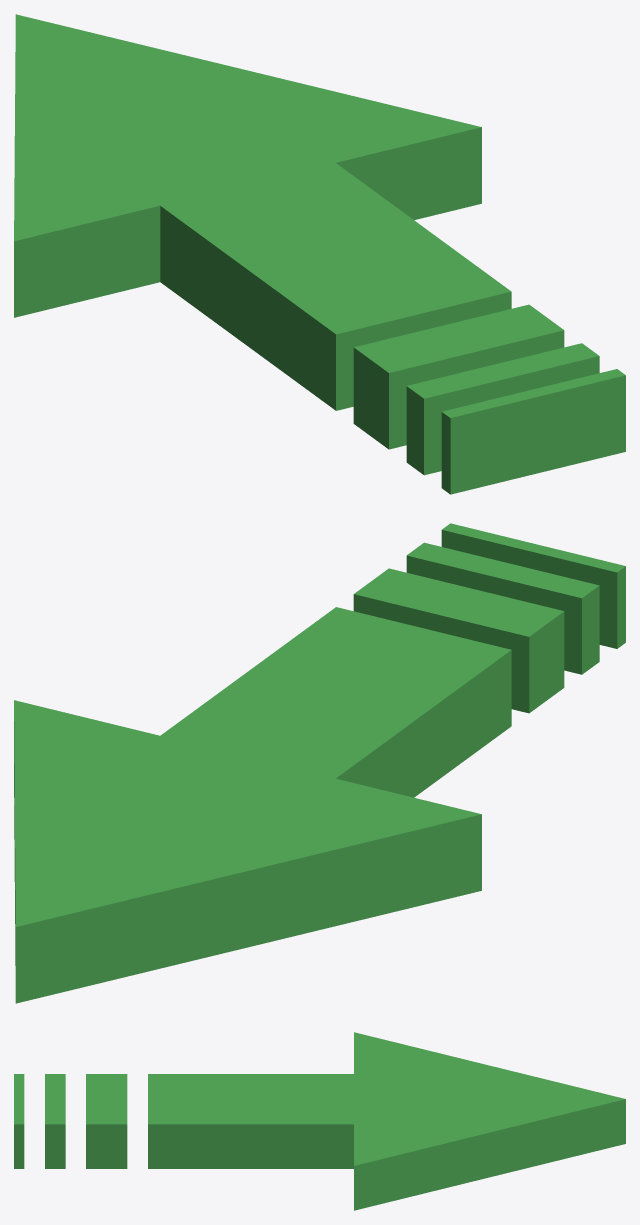
Rendered from jumpboost_arrow.glb.
3 views of the same model, one above another, from view 1: azimuth 30°, elevation 25°; view 2: azimuth 150°, elevation 25°; view 3: azimuth 270°, elevation 25° (orthographic). The views are drawn at different scales.
Parts seen in each view (by area): view 1: Cube__0; view 2: Cube__0; view 3: Cube__0.
Boxes of the visible parts, x1,y1,x2,y2 form: Cube__0: [14, 14, 625, 494]; Cube__0: [14, 523, 625, 1003]; Cube__0: [14, 1032, 625, 1210].
Bounding box in the file's own units: 0.64 × 0.1 × 1.24.
